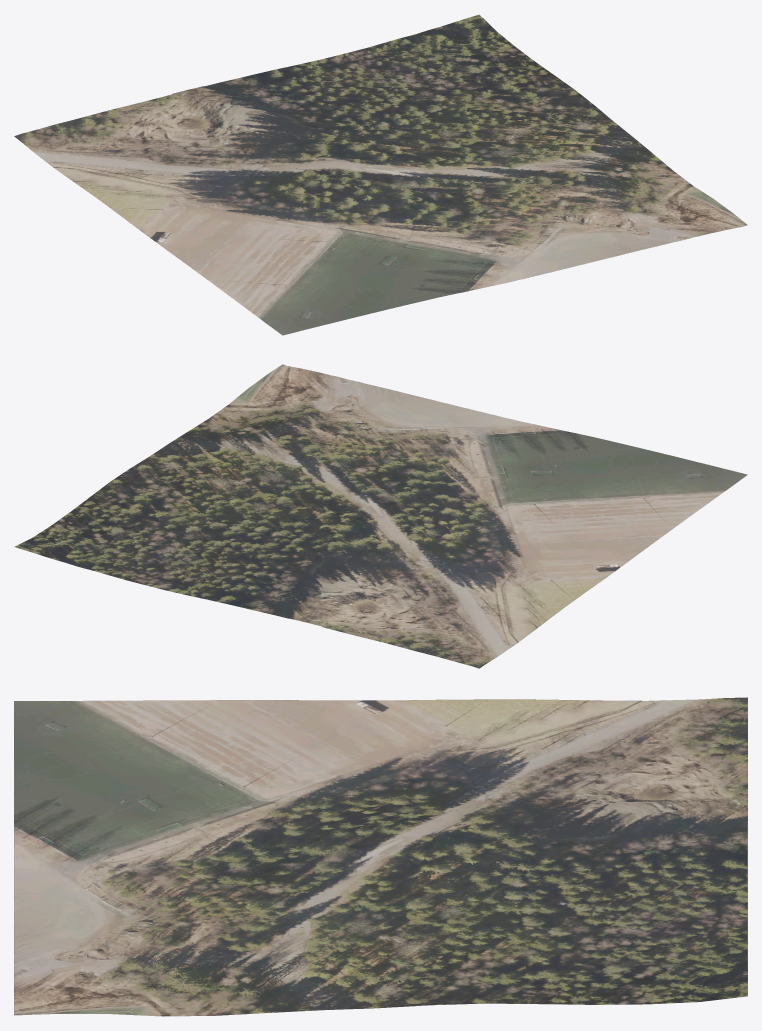
File: CM_Terrain_24489844_6822251.fbx
The picture shows the model from 3 angles, top to bottom: view 1: azimuth 30°, elevation 25°; view 2: azimuth 150°, elevation 25°; view 3: azimuth 270°, elevation 25°; orthographic projection. The views are drawn at different scales.
Visible parts, largest first — view 1: CM_Terrain_24489844_6822251_LOD0; view 2: CM_Terrain_24489844_6822251_LOD0; view 3: CM_Terrain_24489844_6822251_LOD0.
Part boxes in pixels (x1=…): CM_Terrain_24489844_6822251_LOD0: x1=14, y1=14, x2=747, y2=335; CM_Terrain_24489844_6822251_LOD0: x1=14, y1=364, x2=747, y2=668; CM_Terrain_24489844_6822251_LOD0: x1=14, y1=697, x2=747, y2=1016.
Size of what is drawn, in the model's own units: 205 by 6.54 by 205.
